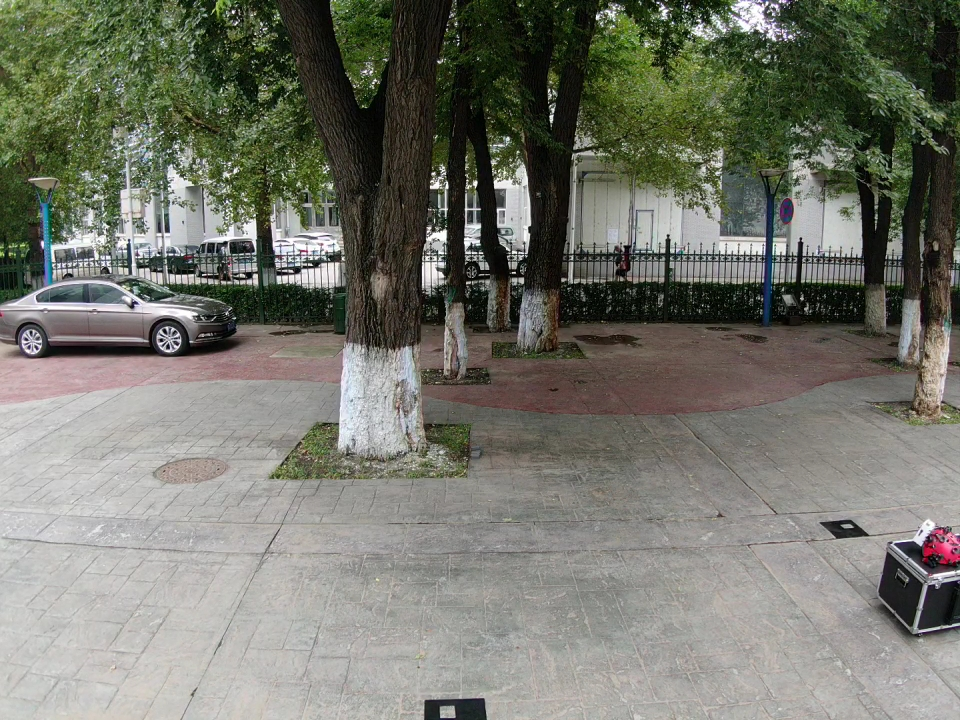box: (879, 537, 960, 637)
helmet: (921, 526, 960, 565)
qrcode: (424, 698, 487, 720), (819, 520, 870, 539)
